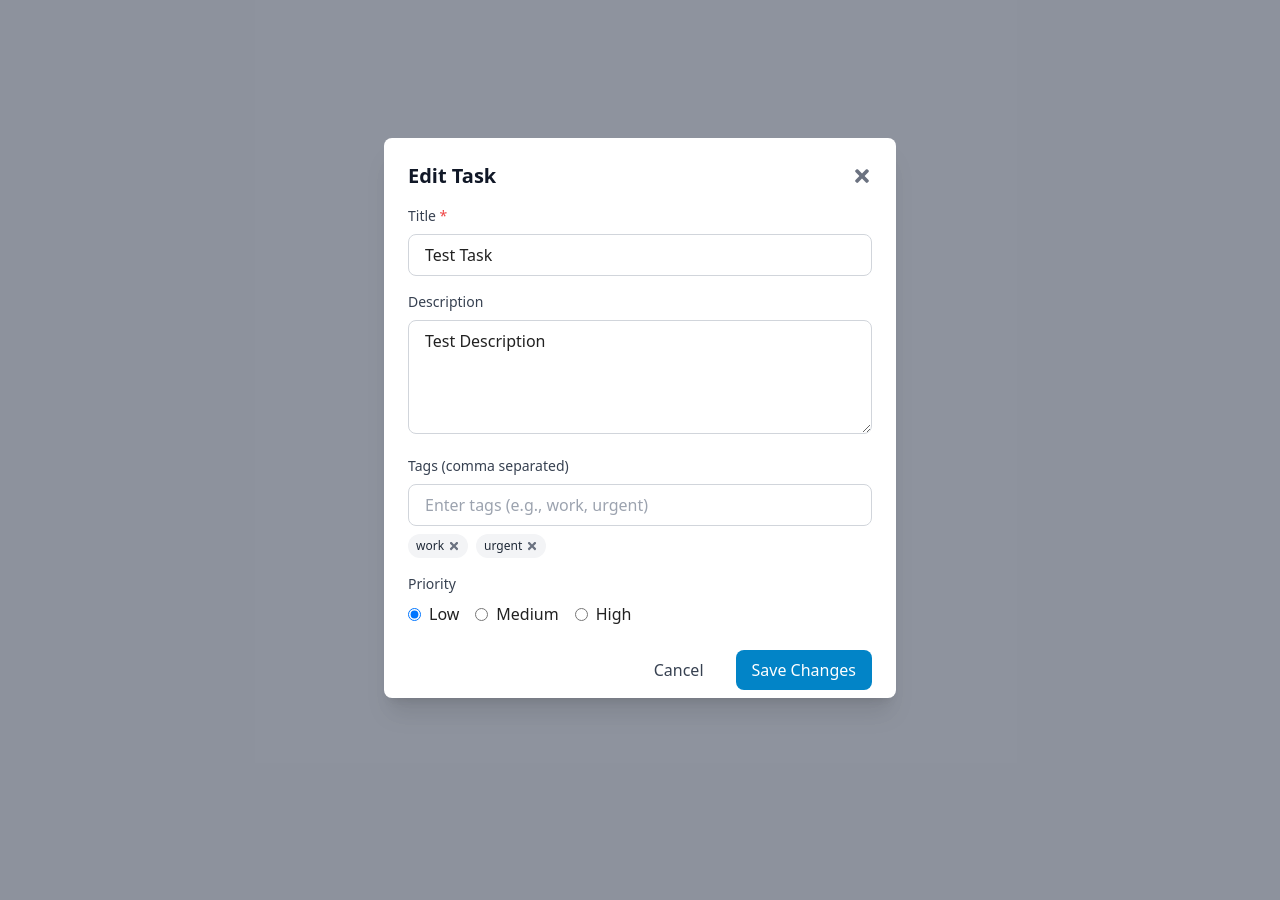
Test: EditTaskModal › should handle tag input correctly
The width and height of the screenshot is (1280, 900).
// Add multiple tags in one input
Type "tag1,tag2," into the field with test id "tags-input" at [640, 505], box 408,484 -> 872,526
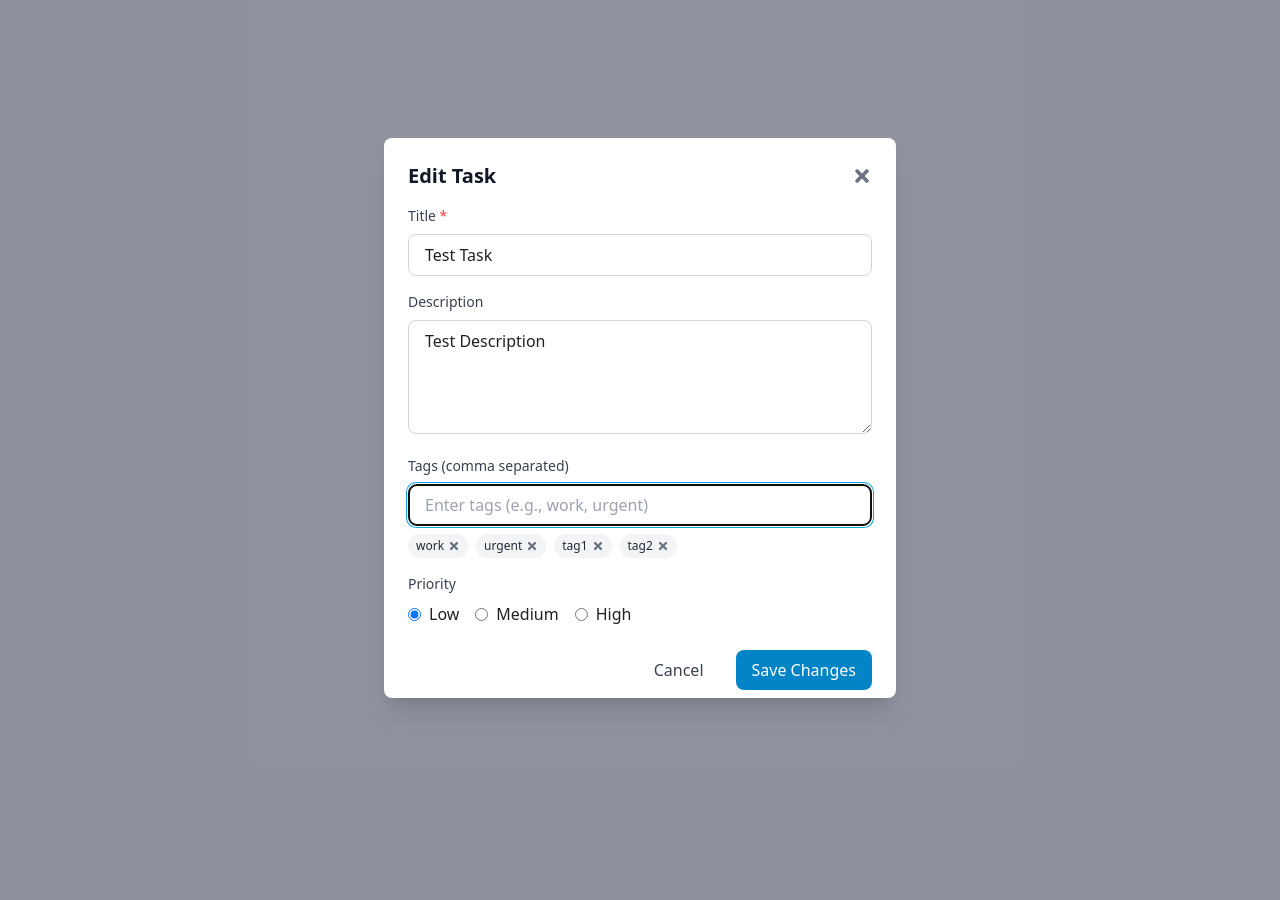
Now the element with test id "tag-tag1" is shown, box 554,534 -> 612,558
Now the element with test id "tag-tag2" is shown, box 620,534 -> 677,558
